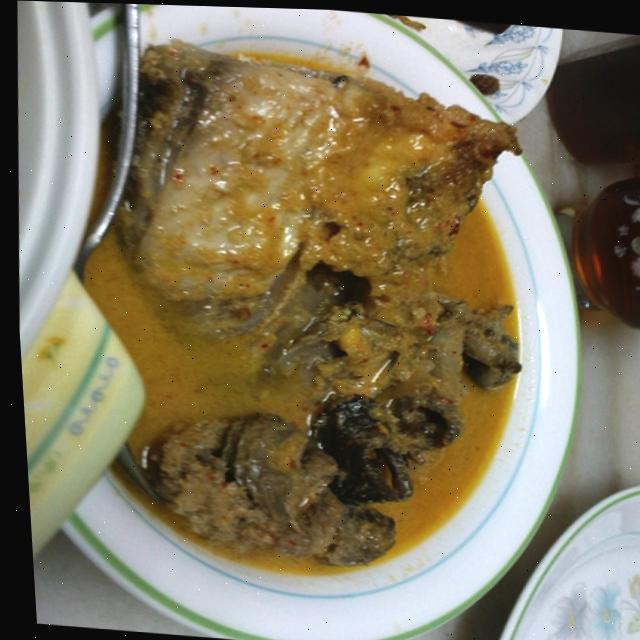熟制海鲜: (37, 4, 603, 634)
